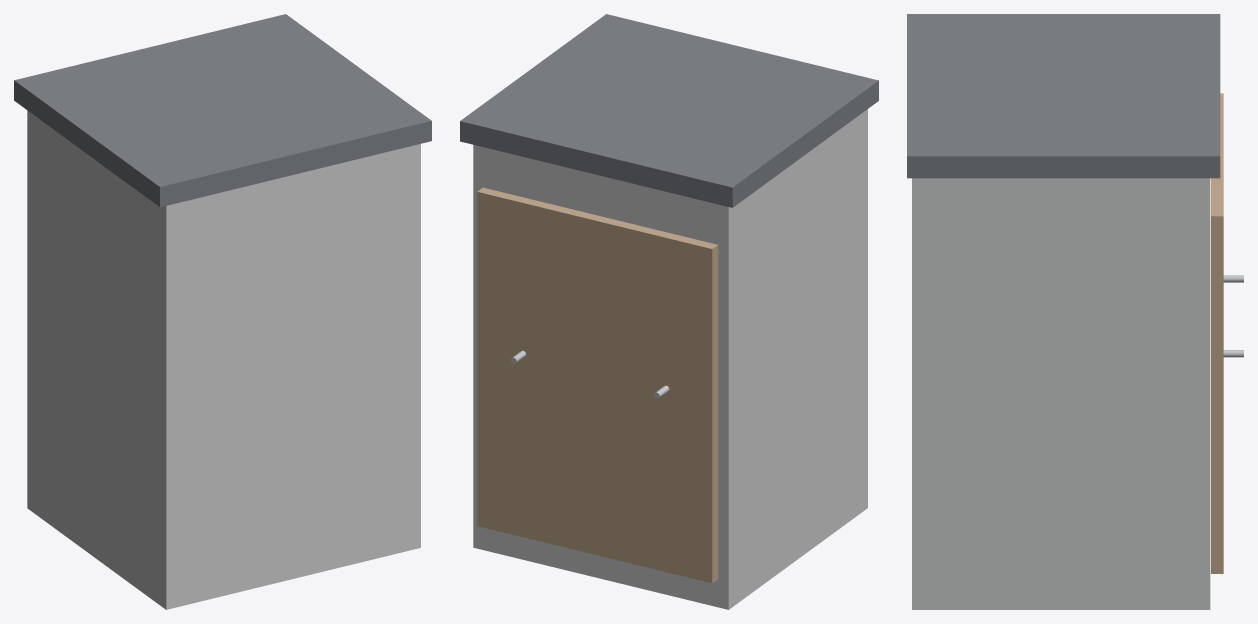
File: kitchen-base.glb
The picture shows the model from 3 angles, left to right: view 1: azimuth 30°, elevation 25°; view 2: azimuth 150°, elevation 25°; view 3: azimuth 270°, elevation 25°; orthographic projection. The views are drawn at different scales.
Visible parts, largest first — view 1: cabinet_0, worktop_2; view 2: front_1, cabinet_0, worktop_2; view 3: cabinet_0, worktop_2, front_1.
Part boxes in pixels (left/top/right/bottom): cabinet_0: left=27, top=110, right=420, bottom=609; worktop_2: left=14, top=14, right=431, bottom=207; front_1: left=477, top=187, right=718, bottom=583; cabinet_0: left=473, top=109, right=867, bottom=609; worktop_2: left=460, top=14, right=878, bottom=207; cabinet_0: left=912, top=178, right=1210, bottom=609; worktop_2: left=907, top=14, right=1220, bottom=178; front_1: left=1211, top=93, right=1223, bottom=573.
Size of the model in its own units: 0.6 by 0.9 by 0.6.
